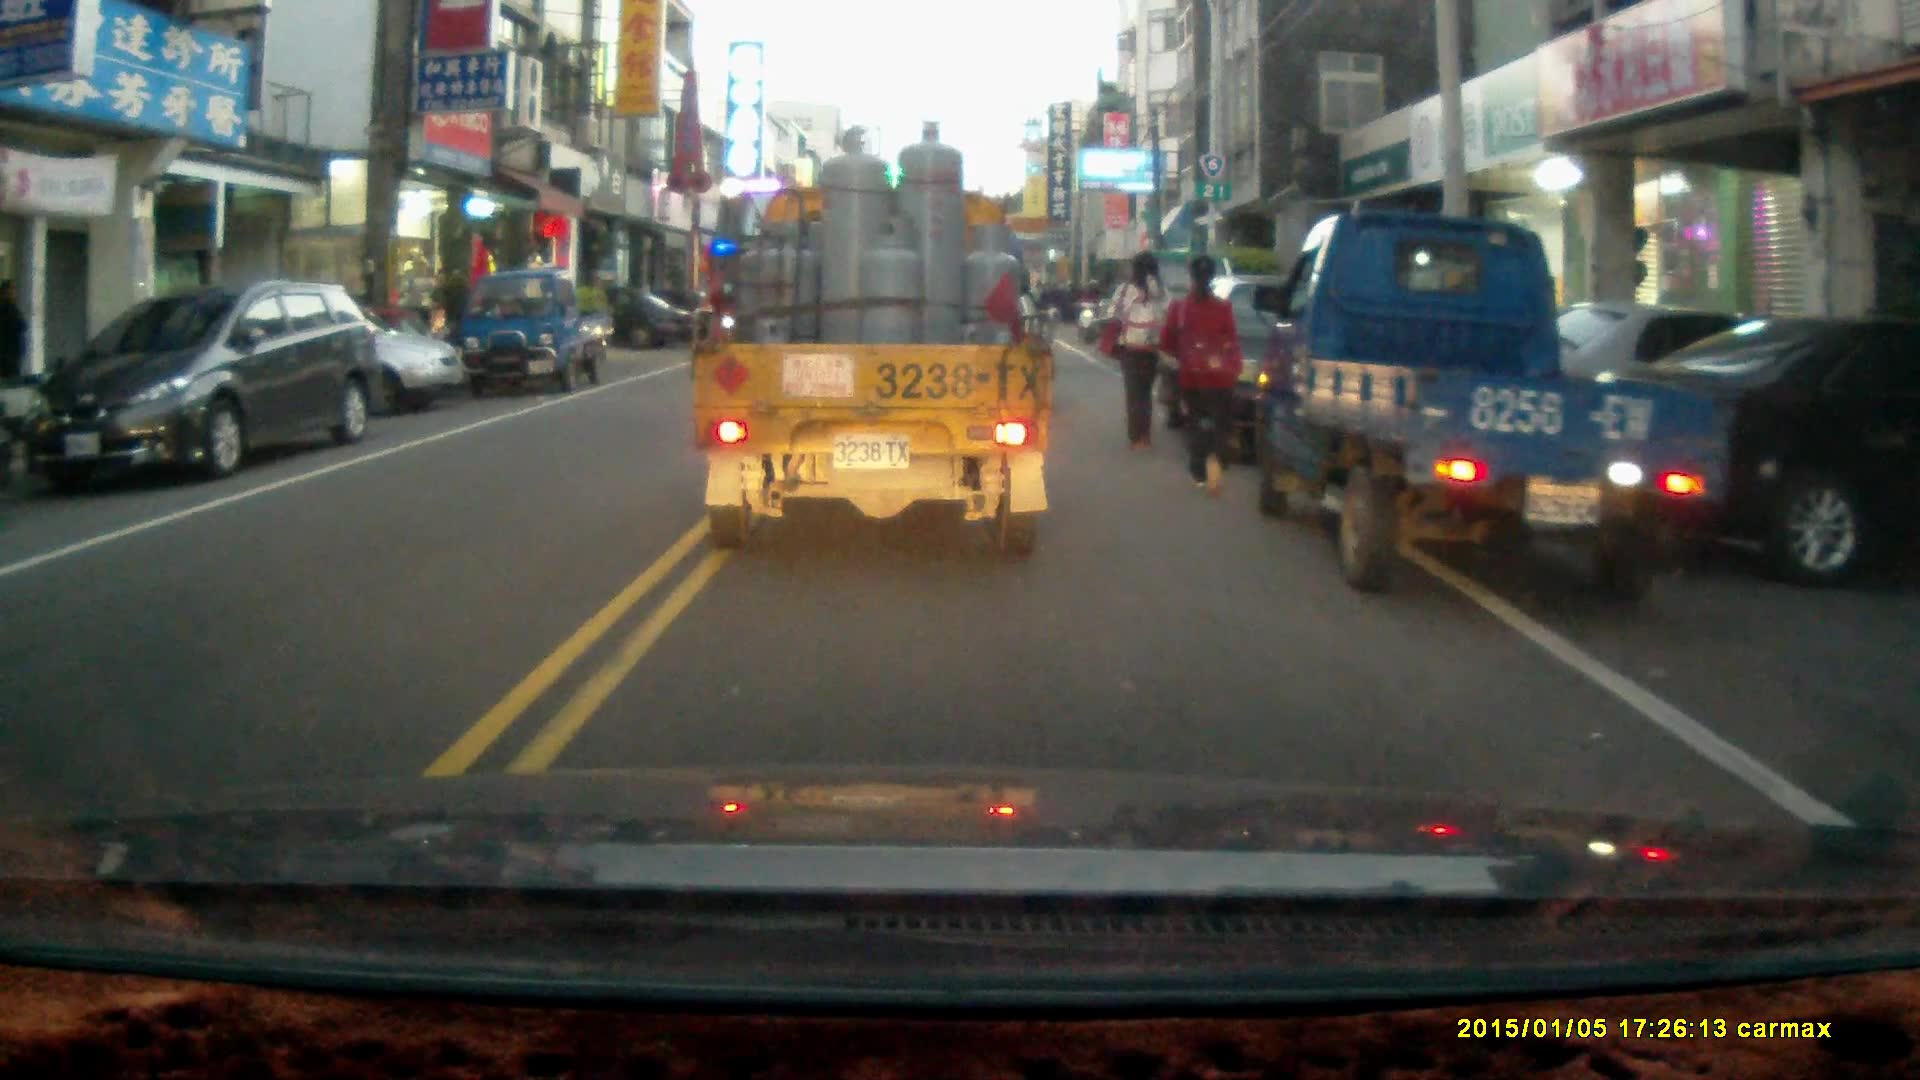pedestrian: (1156, 253, 1240, 495), (1104, 246, 1172, 450), (0, 278, 29, 409)
rider: (1072, 274, 1104, 340)
vehicle: (1250, 210, 1726, 612), (689, 121, 1055, 559), (24, 281, 378, 485), (1162, 269, 1409, 455), (180, 294, 468, 424), (456, 274, 605, 402)
